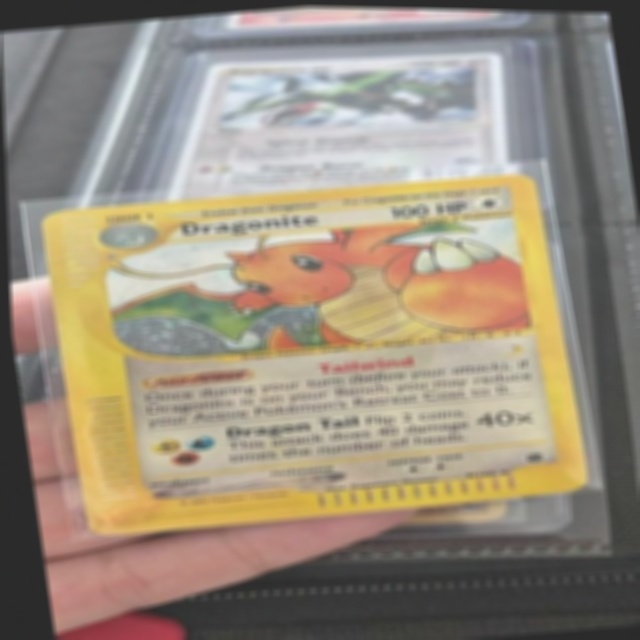card: (39, 170, 586, 535), (166, 49, 507, 201)
